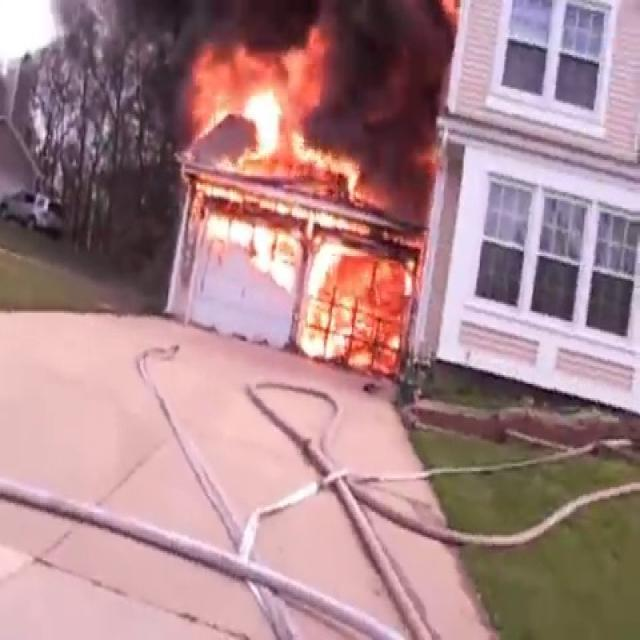Fire: (188, 31, 406, 360)
Smoke: (47, 0, 470, 123)
